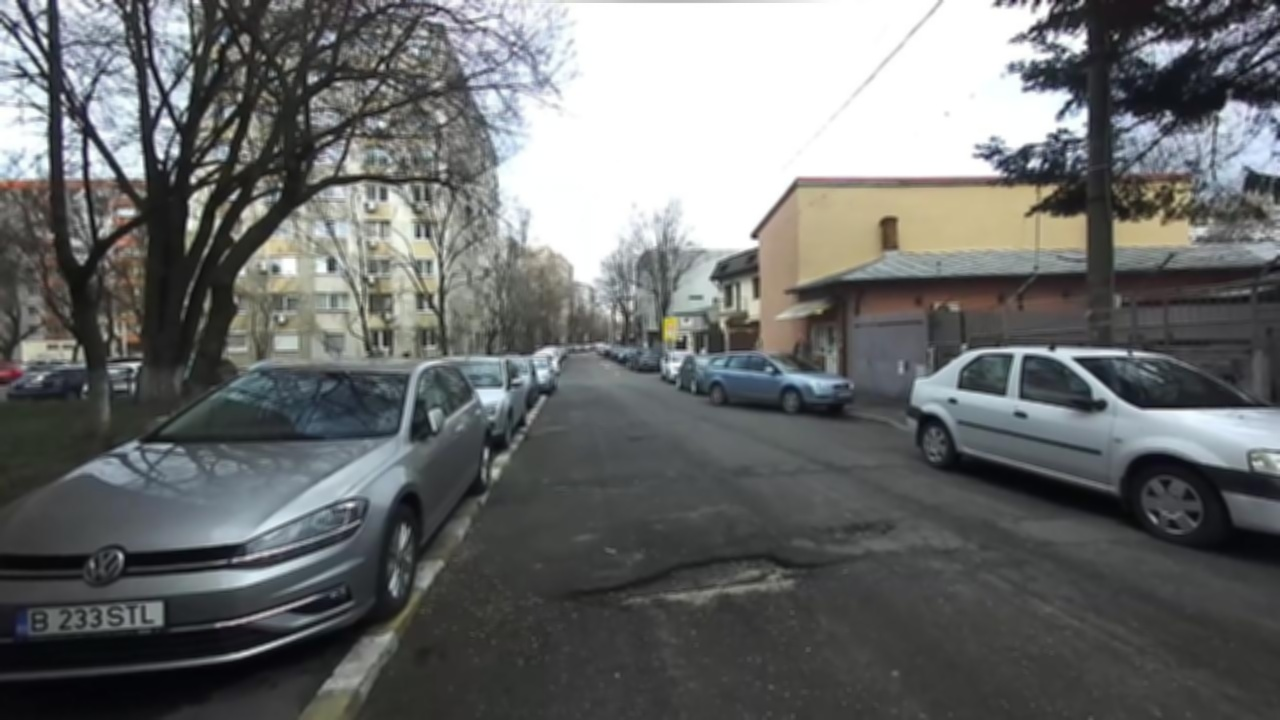pothole: (546, 545, 864, 614), (804, 514, 903, 541)
